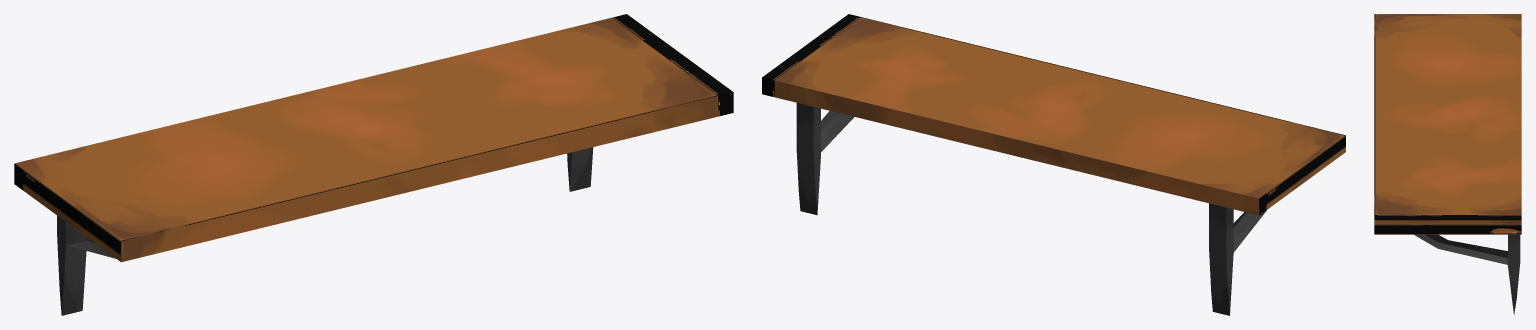
The model's file is Shelf 1.glb.
The picture shows the model from 3 angles, left to right: view 1: azimuth 30°, elevation 25°; view 2: azimuth 150°, elevation 25°; view 3: azimuth 270°, elevation 25°; orthographic projection. The views are drawn at different scales.
Parts seen in each view (by area): view 1: Cube, Cube.001; view 2: Cube, Cube.001; view 3: Cube, Cube.001.
Boxes of the visible parts, box(x1,y1,x2,y2) form: Cube: box(14, 14, 733, 262); Cube.001: box(57, 147, 593, 315); Cube: box(762, 14, 1345, 215); Cube.001: box(796, 103, 1267, 315); Cube: box(1374, 14, 1521, 234); Cube.001: box(1414, 234, 1520, 314).
Bounding box in the file's own units: 1.84 × 0.4545 × 0.5541.
2 materials, 2 textured.
